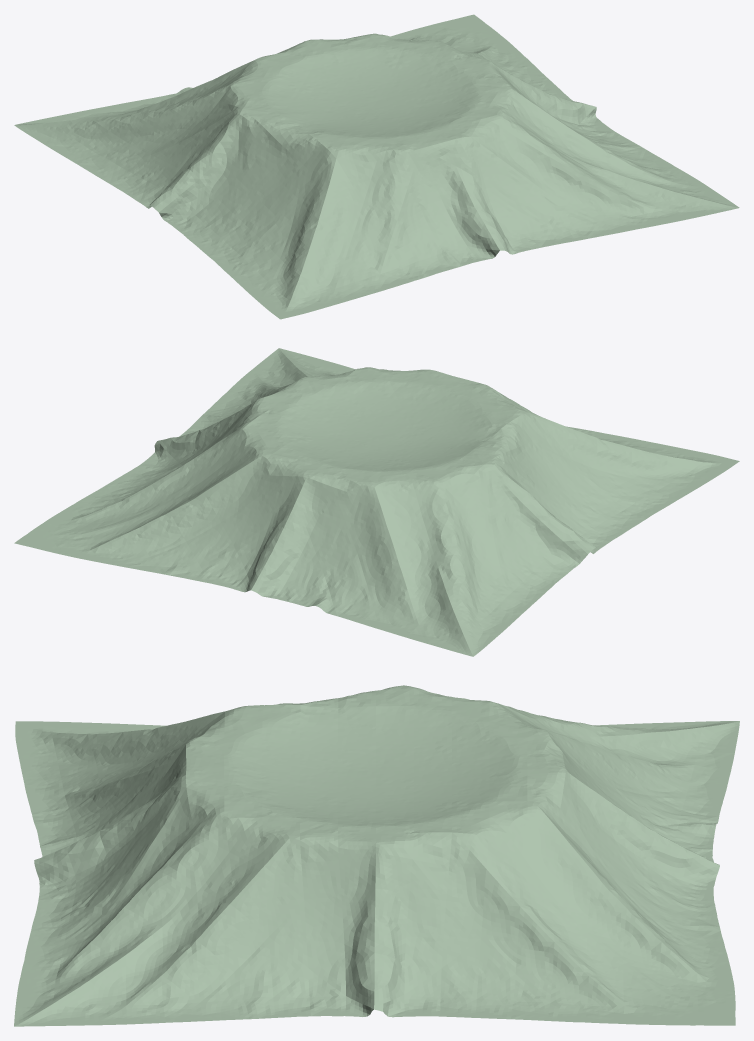
File: level_3.glb
3 renders of one model, top to bottom at view 1: azimuth 30°, elevation 25°; view 2: azimuth 150°, elevation 25°; view 3: azimuth 270°, elevation 25°, orthographic. The views are drawn at different scales.
Parts seen in each view (by area): view 1: world; view 2: world; view 3: world.
Boxes of the visible parts, x1,y1,x2,y2 form: world: (14,14,739,319); world: (14,348,739,656); world: (14,685,739,1026).
Size of the model in its own units: 0.6085 by 0.0984 by 0.6108.
